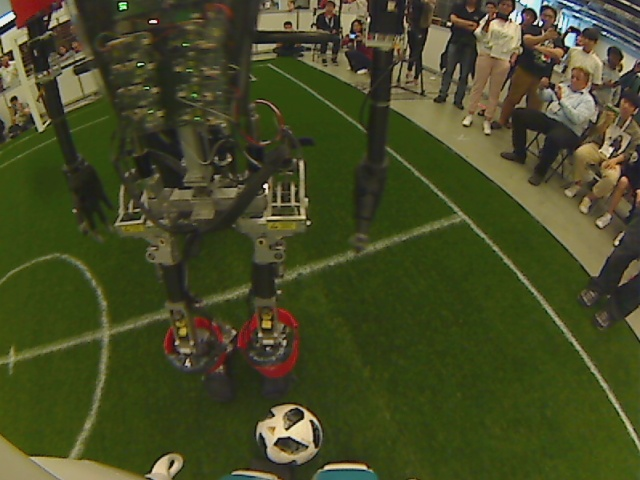ball: (252, 402, 325, 467)
